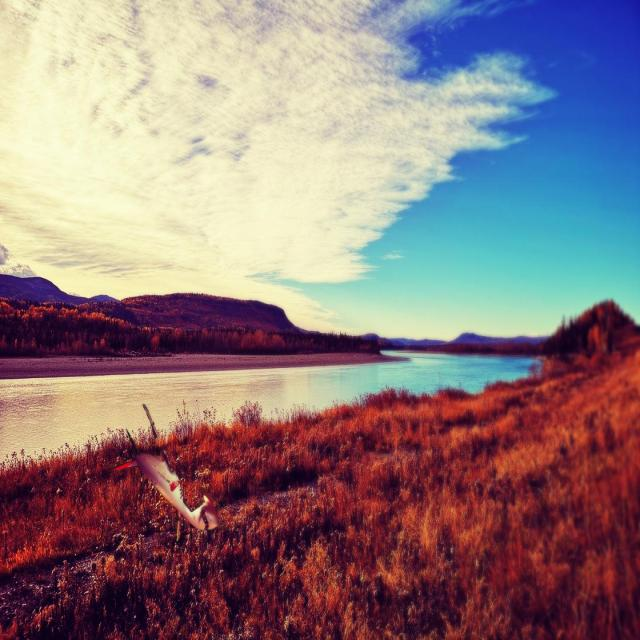airplane: (108, 404, 220, 541)
